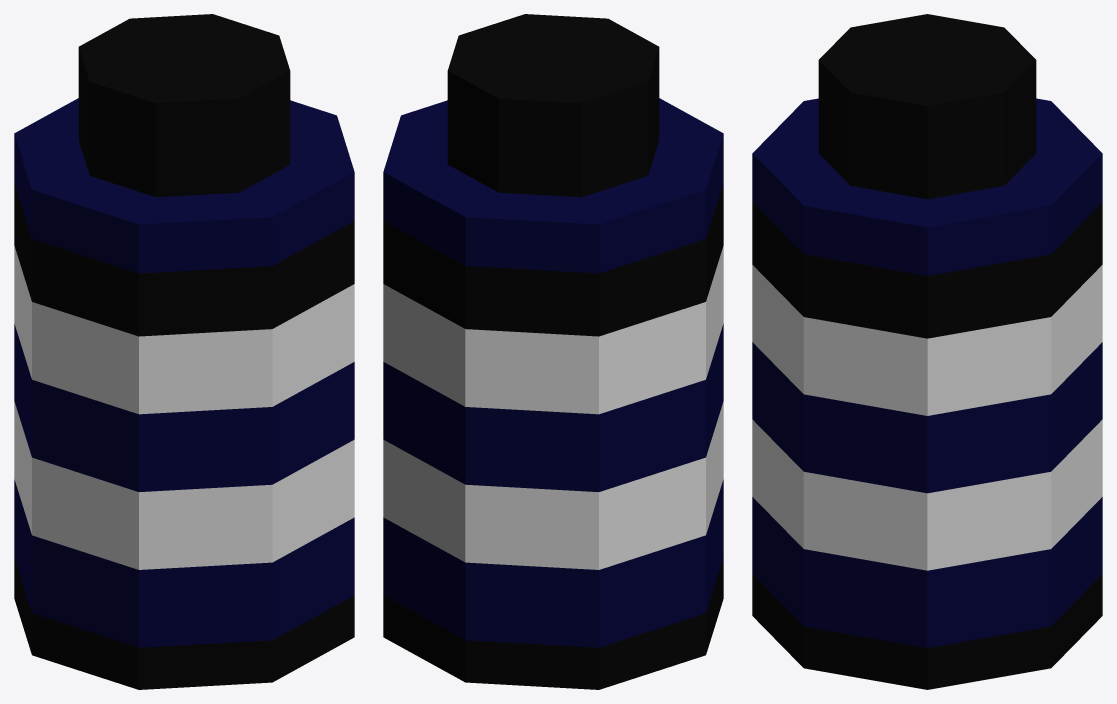
Rendered from helper_sec.fbx.
The picture shows the model from 3 angles, left to right: view 1: azimuth 30°, elevation 25°; view 2: azimuth 150°, elevation 25°; view 3: azimuth 270°, elevation 25°; orthographic projection.
Parts seen in each view (by area): view 1: Cylinder; view 2: Cylinder; view 3: Cylinder.
Part boxes in pixels (x1,y1,x2,y2): Cylinder: (14,14,354,689); Cylinder: (383,14,723,689); Cylinder: (752,14,1102,689).
Size of the model in its own units: 400 by 701 by 400.
